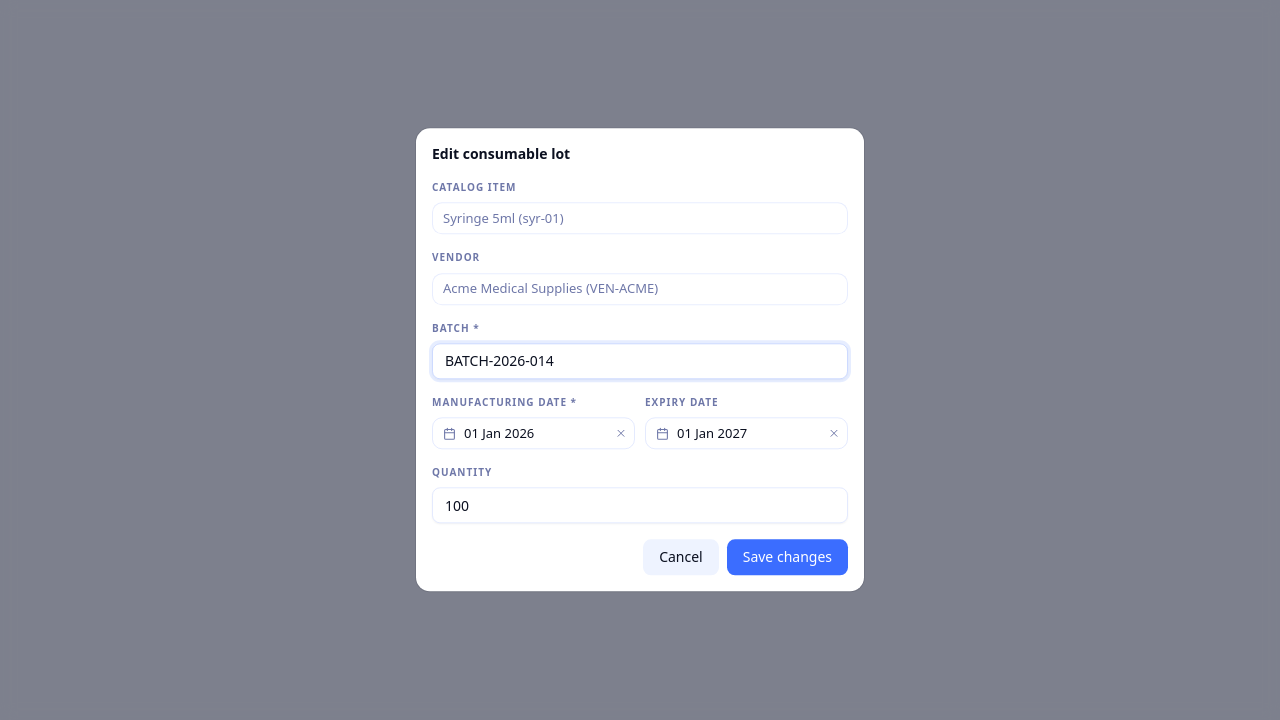
Test: EditInventoryConsumableModal › edit mode: blanking an already-set expiry warns instead of silently reverting on save
The width and height of the screenshot is (1280, 720).
Check: the text "can't be cleared once set" is not shown
Click the button named "clear date" below "Expiry date" at (834, 433), box top-left (826, 425), bottom-right (842, 441)
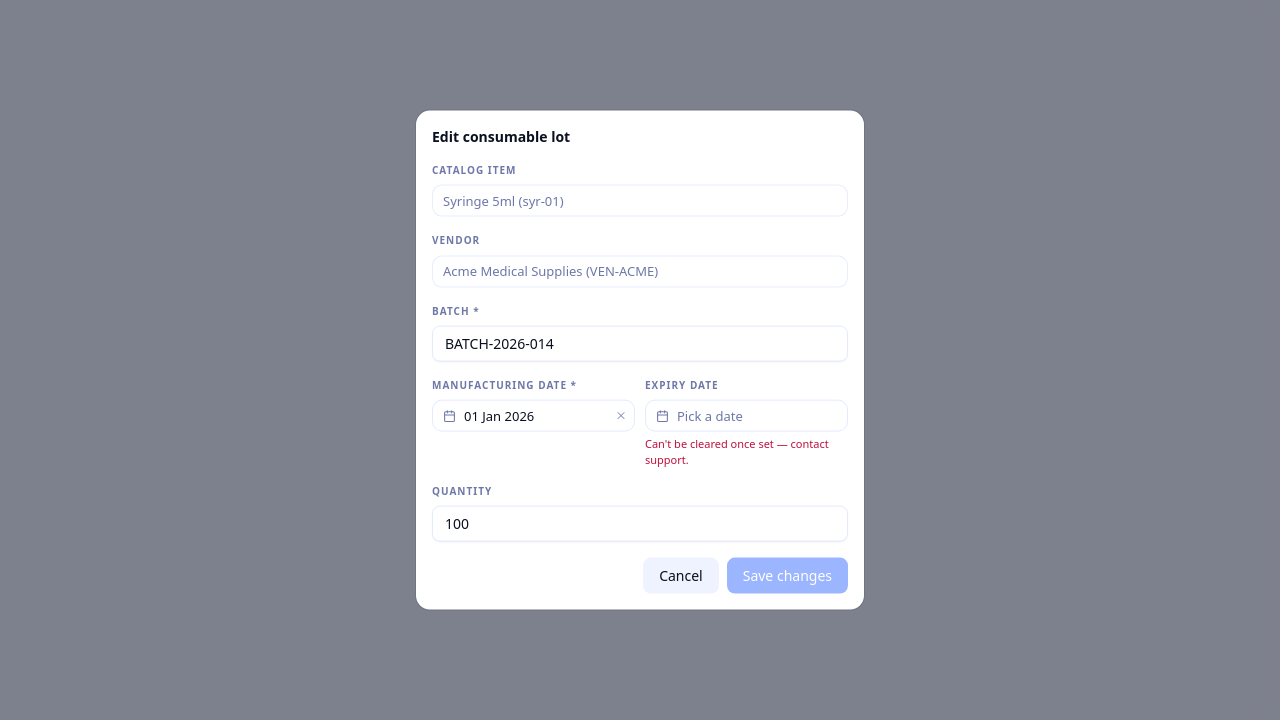
Check: the text "Can't be cleared once set — contact support." is shown, box top-left (645, 436), bottom-right (848, 467)
